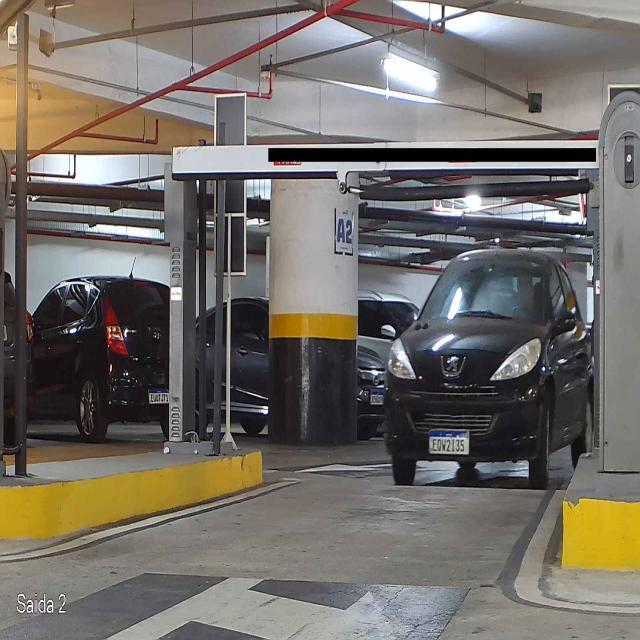mercosul_plate: (428, 430, 470, 456)
